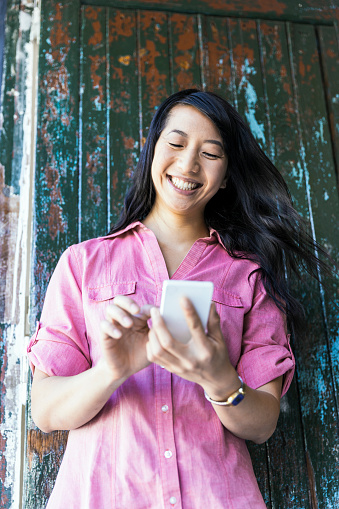em pe: (16, 78, 312, 422)
